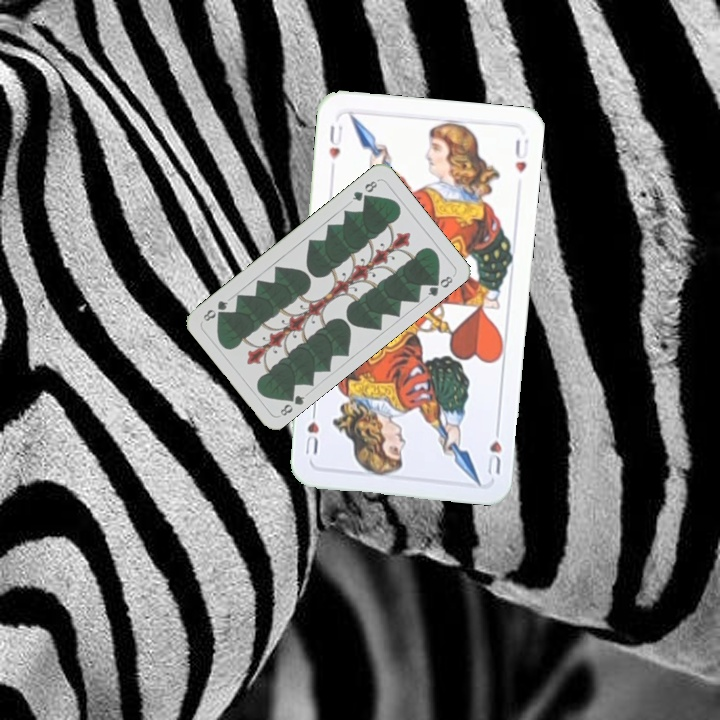G8: (276, 388, 307, 419), (348, 176, 380, 204)
HU: (482, 420, 505, 478), (325, 120, 346, 162)
